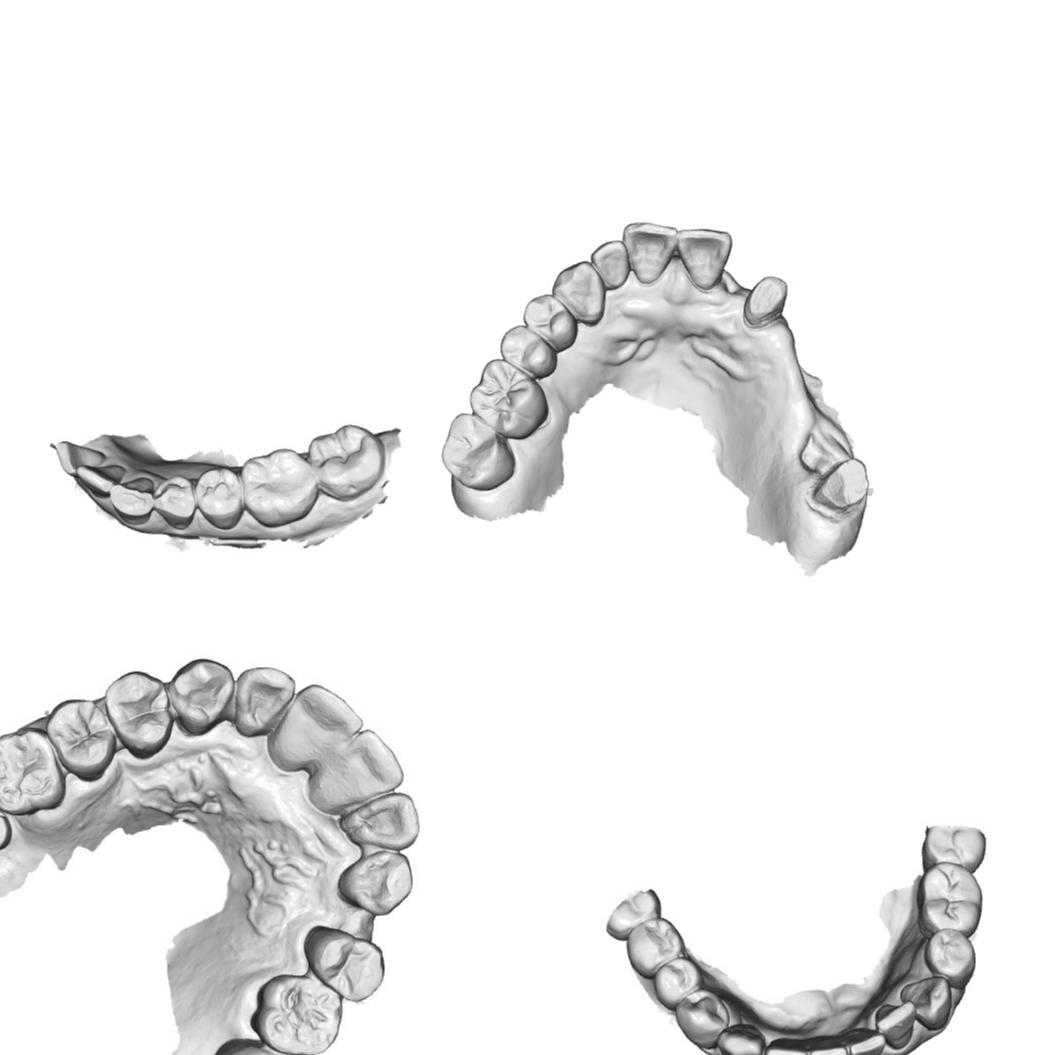canine: (169, 654, 235, 739), (336, 849, 418, 916), (551, 260, 605, 324), (108, 476, 158, 524), (903, 978, 954, 1020), (712, 1024, 766, 1055)
crown: (806, 455, 870, 517), (741, 272, 790, 332)
implant: (0, 812, 15, 850)
incisor: (312, 724, 404, 811), (274, 684, 362, 771), (231, 663, 295, 738), (351, 789, 421, 850), (674, 225, 734, 294), (620, 220, 678, 286), (52, 438, 110, 478), (72, 462, 128, 500), (590, 238, 628, 290), (880, 1005, 919, 1047), (850, 1026, 892, 1055), (766, 1033, 811, 1055), (811, 1037, 850, 1055)
molar: (251, 973, 343, 1055), (238, 446, 319, 529), (467, 358, 548, 440), (306, 422, 386, 502), (438, 410, 516, 492), (0, 728, 67, 816), (623, 911, 689, 979), (921, 863, 983, 932), (210, 1036, 314, 1055)
premolar: (302, 919, 387, 1003), (103, 666, 173, 759), (45, 696, 116, 781), (195, 464, 244, 532), (498, 324, 557, 378), (522, 294, 578, 350), (679, 991, 727, 1045), (152, 473, 196, 530), (653, 952, 701, 1003), (929, 933, 972, 977)
